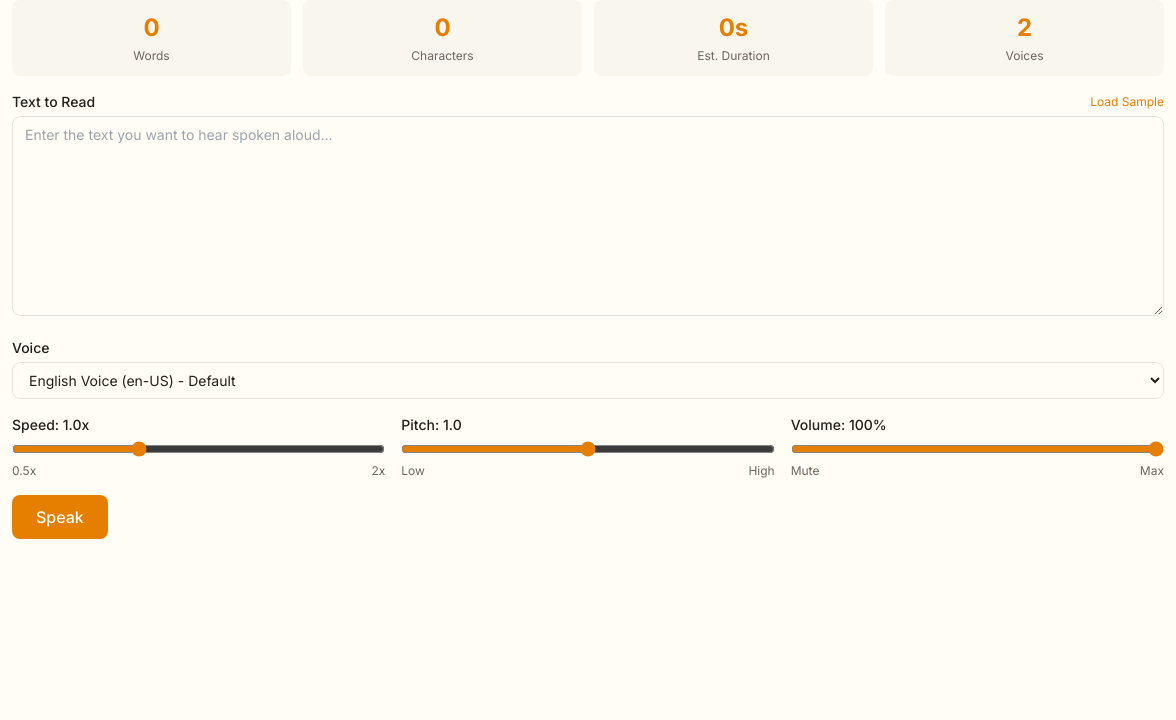
Test case: TextToSpeech › clears text when Clear button is clicked
The width and height of the screenshot is (1176, 720).
Type "Some text" into the text box named "Text to speak".
click(588, 216); type("Some text")  # box [12, 116, 1164, 316]
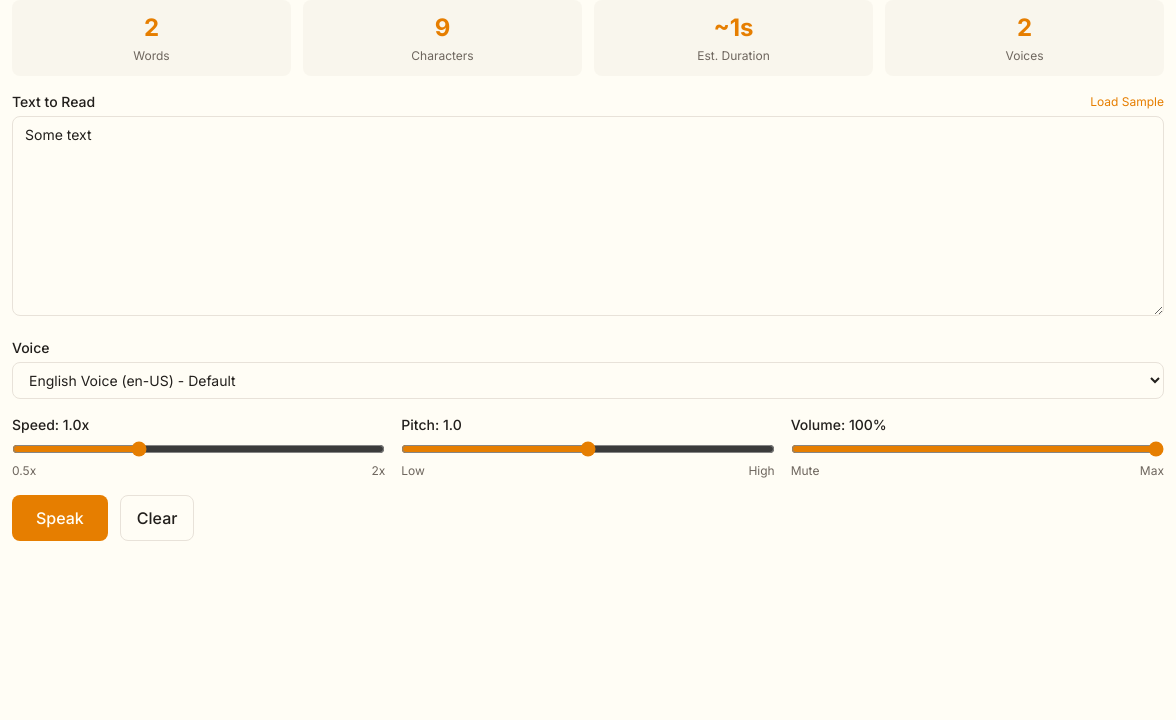
Click the button "Clear".
click(157, 518)  # box [120, 495, 194, 541]
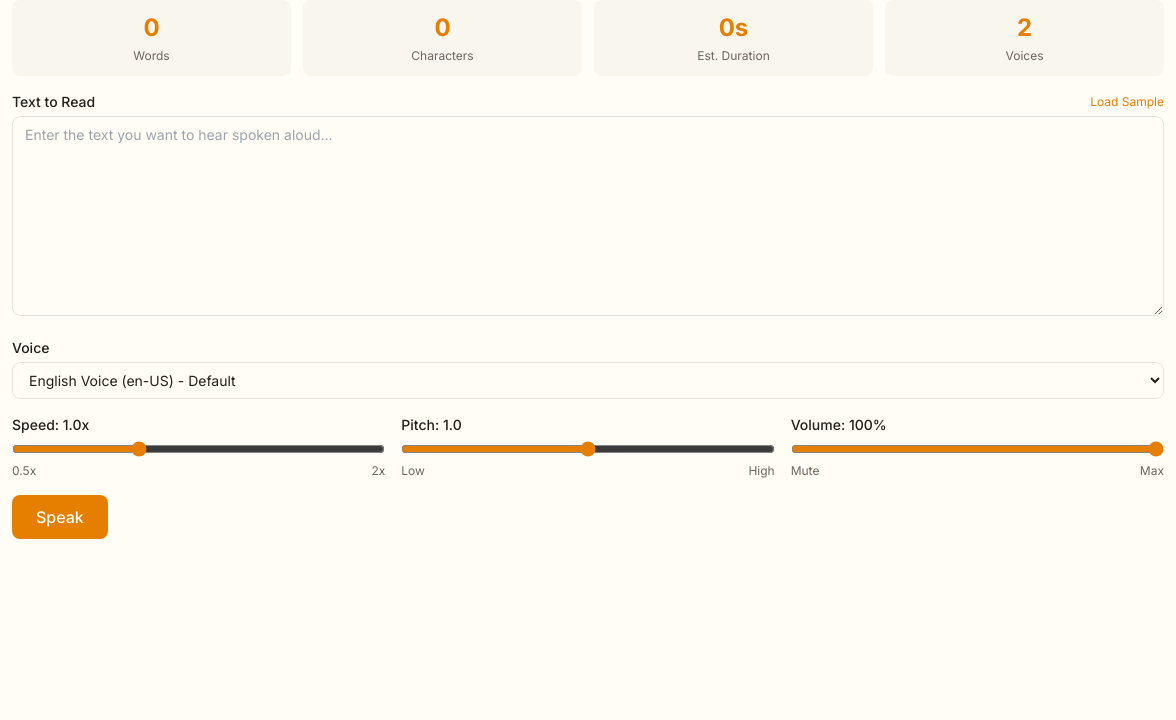
Expected: the text box named "Text to speak" is empty, [12, 116, 1164, 316]
